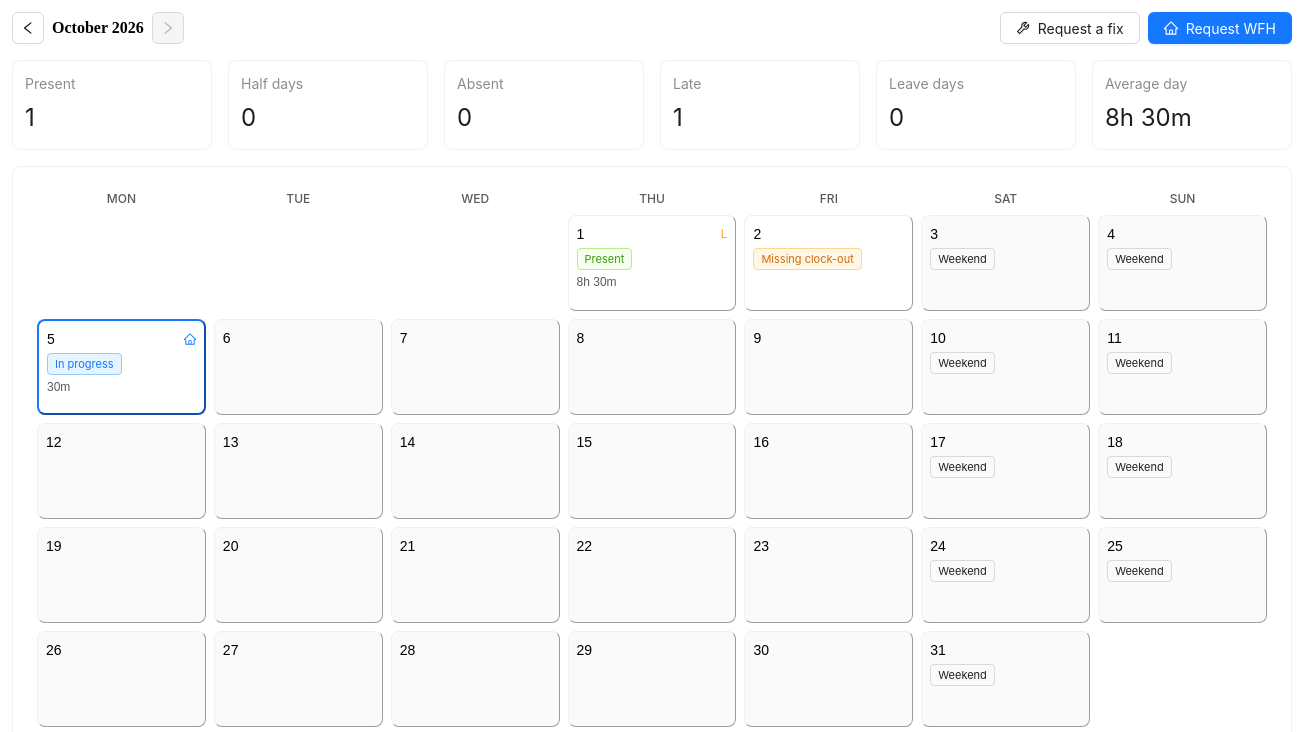
Test: Me → Attendance › shows the month as a calendar with statuses, marks and totals
The image size is (1304, 732).
Check: the text with test id "shown-month" reads "October 2026", box [52,19,144,36]
Check: the button with aria-label "1 October: Present, late" shows "8h 30m", box [568,215,736,311]
Click the button named "Previous month" at (28, 28), box [12,12,44,44]
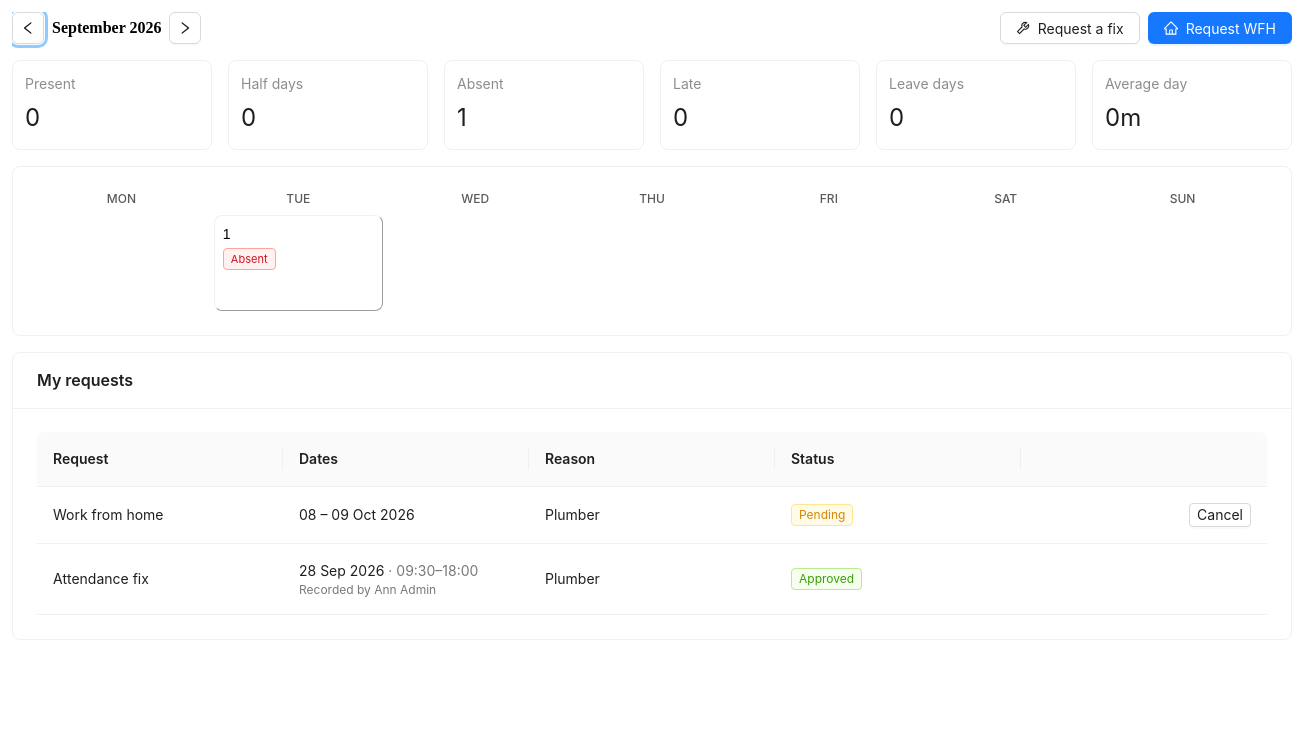
Check: the text with test id "shown-month" reads "September 2026", box [52,19,162,36]
